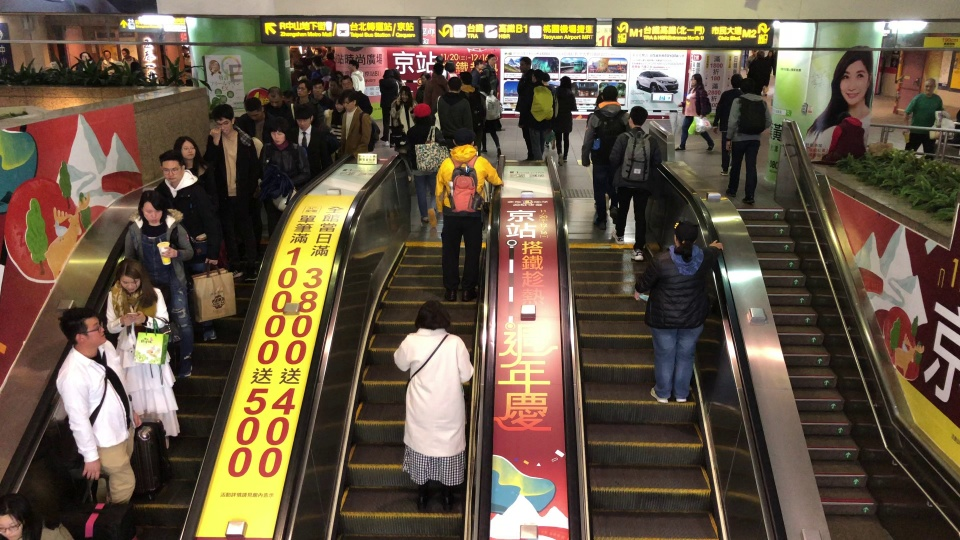person_head: (60, 307, 106, 348), (0, 494, 30, 540), (413, 300, 450, 331), (137, 188, 166, 223), (157, 149, 185, 183), (117, 257, 143, 292), (174, 134, 203, 161), (673, 219, 698, 249), (211, 103, 235, 133), (292, 103, 313, 130), (242, 96, 264, 121), (267, 118, 288, 143), (627, 105, 648, 128), (453, 127, 475, 146), (413, 102, 432, 123), (266, 86, 283, 107), (422, 80, 440, 99), (295, 78, 313, 96), (341, 89, 356, 110), (922, 76, 937, 95), (600, 84, 619, 98), (312, 78, 324, 97), (836, 111, 851, 126), (399, 84, 412, 101), (448, 75, 461, 92), (518, 55, 532, 70), (729, 73, 742, 89), (739, 77, 752, 93), (459, 70, 472, 85), (689, 73, 704, 86), (341, 75, 353, 90), (327, 77, 338, 92), (479, 74, 490, 89), (531, 69, 543, 82), (559, 76, 572, 88), (420, 71, 431, 85), (335, 94, 344, 111), (348, 58, 359, 71), (444, 59, 455, 71), (433, 63, 444, 75), (311, 55, 321, 68), (473, 57, 483, 69), (382, 68, 394, 77), (487, 52, 496, 64), (294, 60, 304, 70), (121, 47, 130, 58), (435, 54, 444, 65), (79, 52, 91, 59), (102, 50, 111, 58), (326, 51, 334, 60), (181, 45, 188, 54), (757, 48, 764, 57), (314, 48, 321, 56), (751, 48, 756, 56), (767, 49, 772, 55)
person_vbox: (392, 299, 476, 514), (632, 220, 725, 405), (56, 308, 142, 503), (105, 256, 181, 450), (124, 187, 195, 377), (153, 148, 221, 342), (436, 126, 504, 304), (203, 103, 261, 280), (173, 134, 222, 343), (608, 105, 661, 262), (581, 84, 629, 230), (257, 117, 311, 239), (725, 77, 772, 205), (405, 102, 444, 228), (289, 102, 338, 174), (901, 77, 944, 157), (810, 108, 867, 166), (674, 72, 715, 152), (712, 72, 743, 177), (340, 89, 380, 160), (458, 69, 488, 154), (527, 68, 553, 162), (436, 75, 473, 140), (478, 73, 503, 157), (554, 75, 577, 166), (513, 54, 532, 162), (421, 80, 454, 139), (236, 96, 275, 145), (378, 68, 400, 146), (485, 53, 507, 131), (292, 78, 325, 125), (388, 84, 415, 135), (340, 76, 374, 116), (324, 94, 344, 161), (311, 77, 337, 123), (263, 85, 293, 121), (746, 48, 770, 92), (422, 62, 448, 102), (347, 58, 367, 93), (762, 48, 776, 96), (415, 71, 432, 103), (100, 50, 117, 74), (75, 51, 95, 71), (121, 48, 138, 70), (472, 57, 483, 89), (744, 48, 756, 73), (323, 52, 336, 71), (182, 44, 190, 65)
